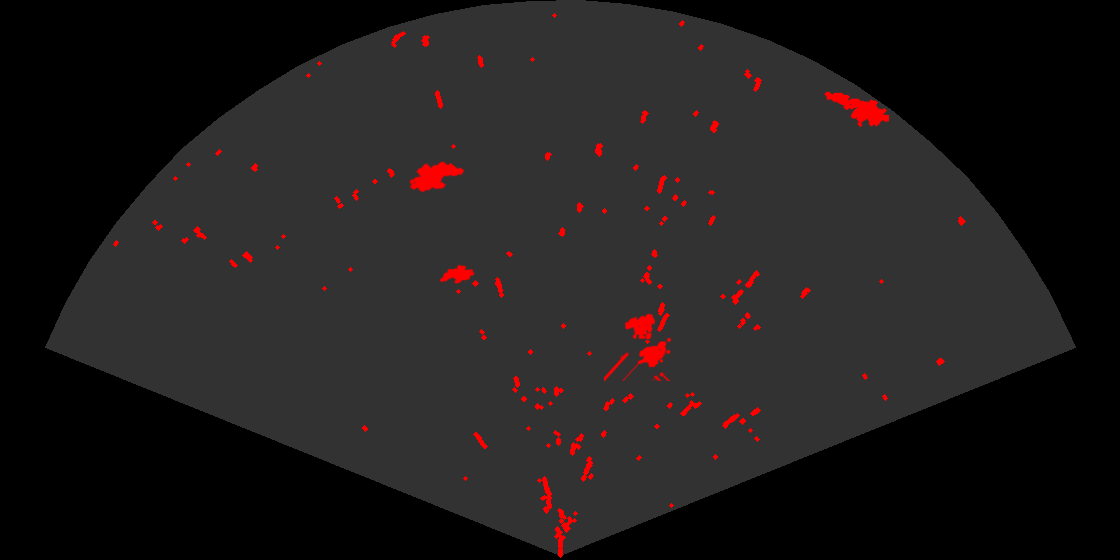AUV: (408, 160, 466, 194), (438, 263, 476, 285)
cage: (604, 312, 673, 381)
frogman: (823, 90, 889, 129)
